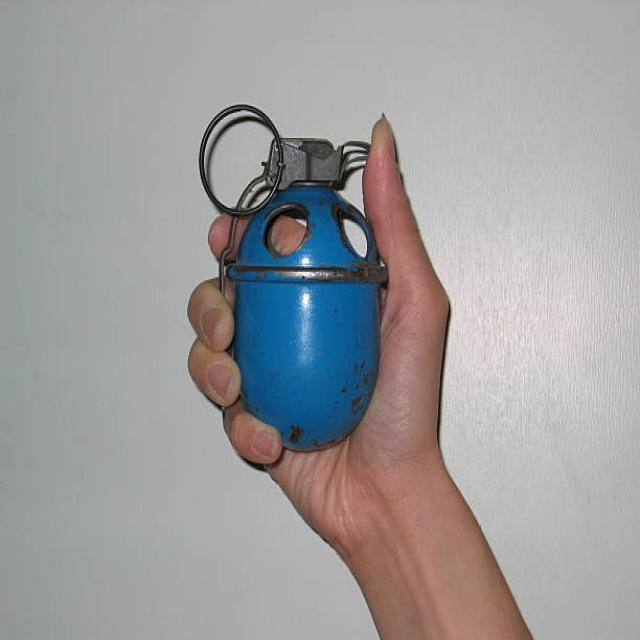grenade: (194, 93, 396, 458)
